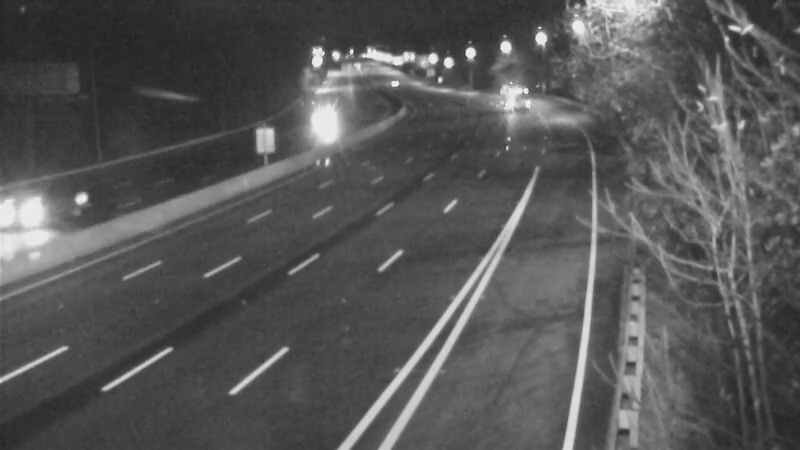vehicle: (1, 173, 79, 253), (361, 57, 411, 107), (478, 67, 528, 117), (296, 97, 346, 147)
